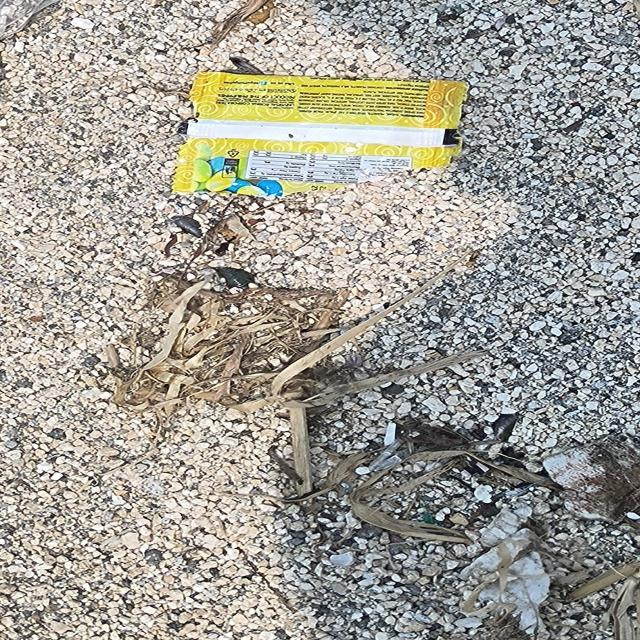plastic_waste: (167, 72, 472, 199)
